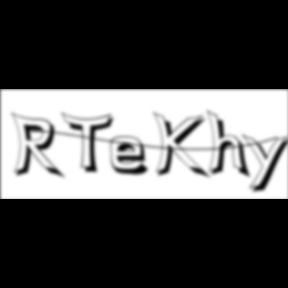K: (153, 110, 212, 182)
R: (12, 112, 68, 182)
T: (61, 112, 119, 176)
e: (110, 135, 156, 178)
h: (207, 108, 254, 182)
